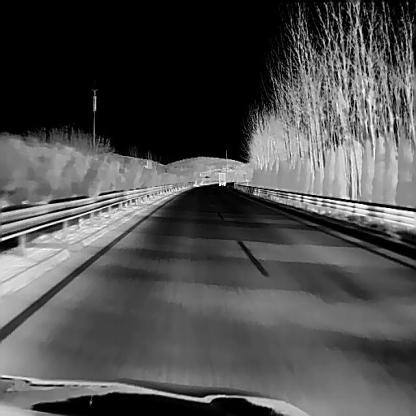car: (218, 171, 226, 185)
